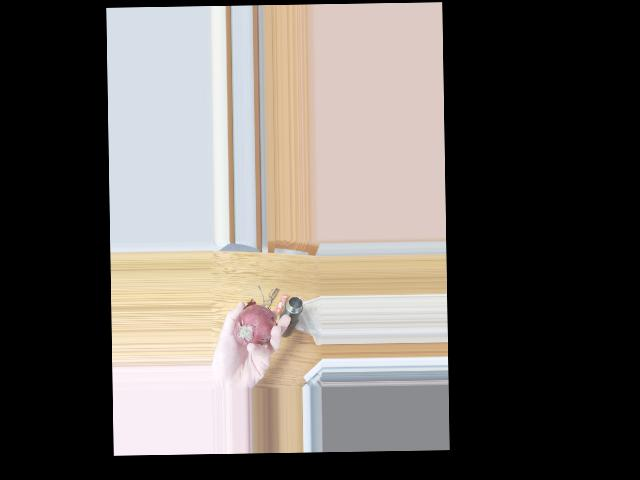onion: (230, 307, 271, 352)
